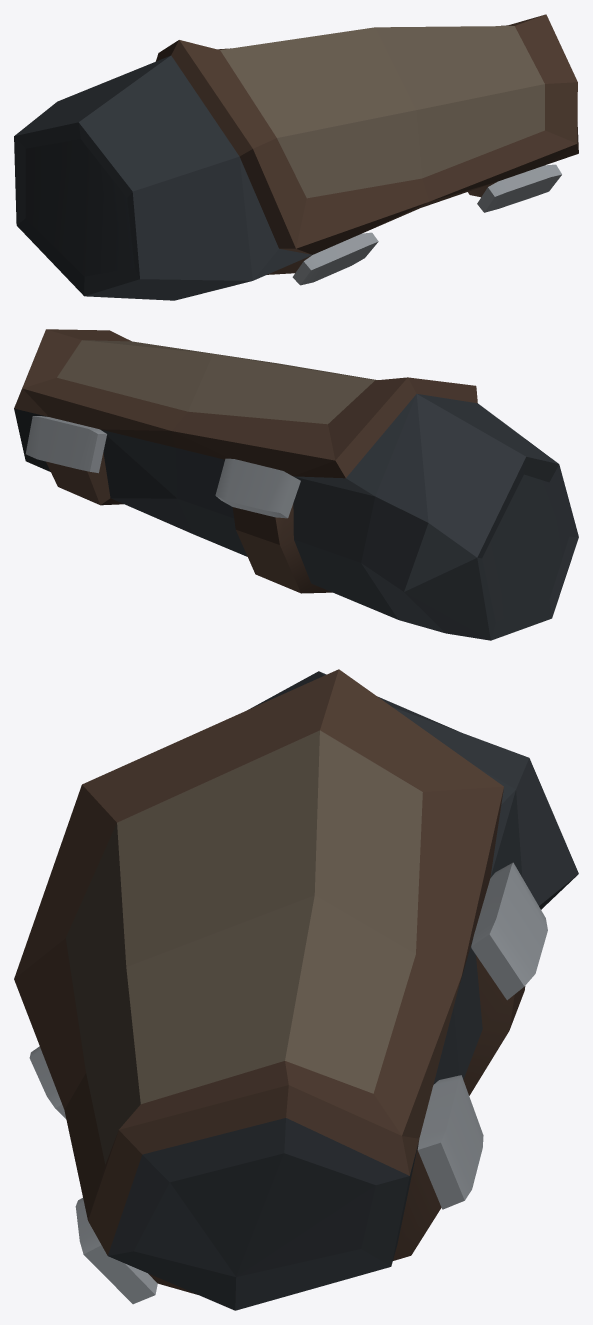
The model's file is Chr_ArmLowerLeft_Male_08_Static.fbx.
3 views of the same model, one above another, from view 1: azimuth 30°, elevation 25°; view 2: azimuth 150°, elevation 25°; view 3: azimuth 270°, elevation 25° (orthographic). The views are drawn at different scales.
Parts seen in each view (by area): view 1: Chr_ArmLowerLeft_Male_08_Static; view 2: Chr_ArmLowerLeft_Male_08_Static; view 3: Chr_ArmLowerLeft_Male_08_Static.
Boxes of the visible parts, x1,y1,x2,y2 form: Chr_ArmLowerLeft_Male_08_Static: (14, 14, 578, 300); Chr_ArmLowerLeft_Male_08_Static: (14, 329, 578, 640); Chr_ArmLowerLeft_Male_08_Static: (14, 669, 578, 1310).
Size of the model in its own units: 0.2909 by 0.1374 by 0.1593.
